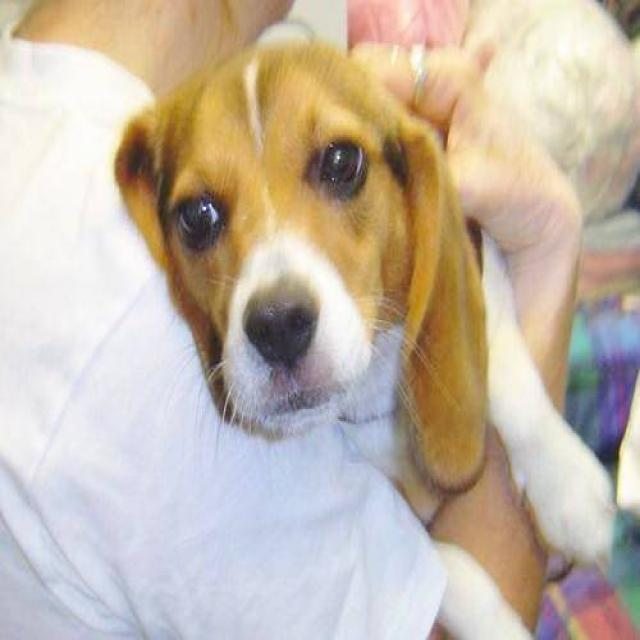dogs: (110, 31, 626, 584)
